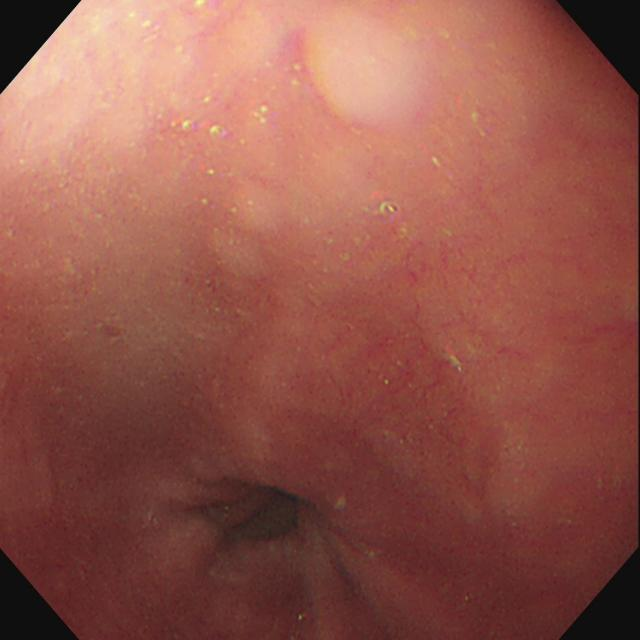E: (220, 470, 323, 542)
